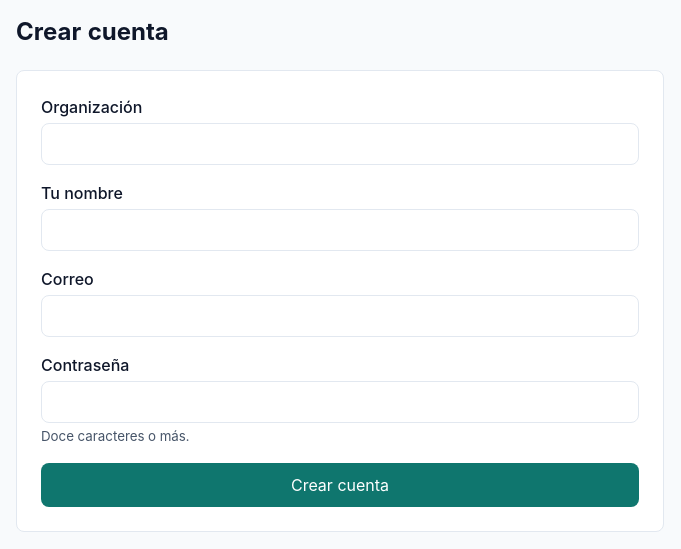
Test: P16 · Crear cuenta desde el resultado › tras crear la cuenta pide el código del correo
In the field labelled "Correo": [340, 316] box [41, 295, 639, 337], type "a@b.test"
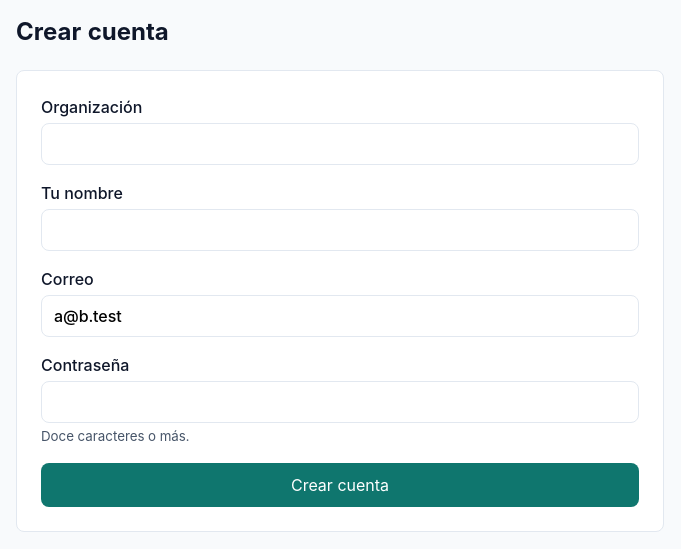
In the password field labelled "Contraseña Doce caracteres o más.": [340, 402] box [41, 381, 639, 423], type "contrasena-larga"
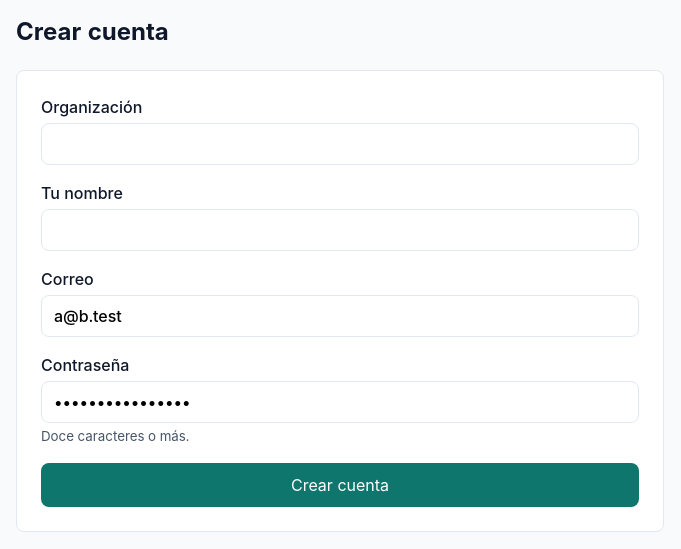
Submit the form
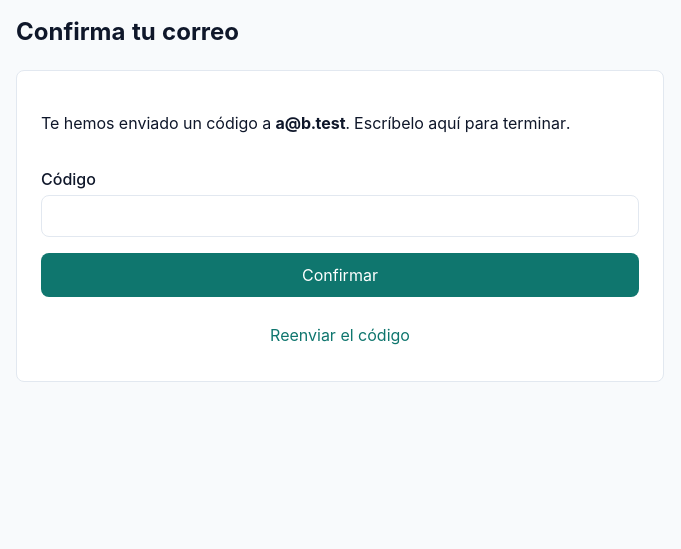
Check: the text "Confirma tu correo" is shown, box [16, 17, 239, 46]
Check: the text "a@b.test" is shown, box [276, 113, 346, 133]
